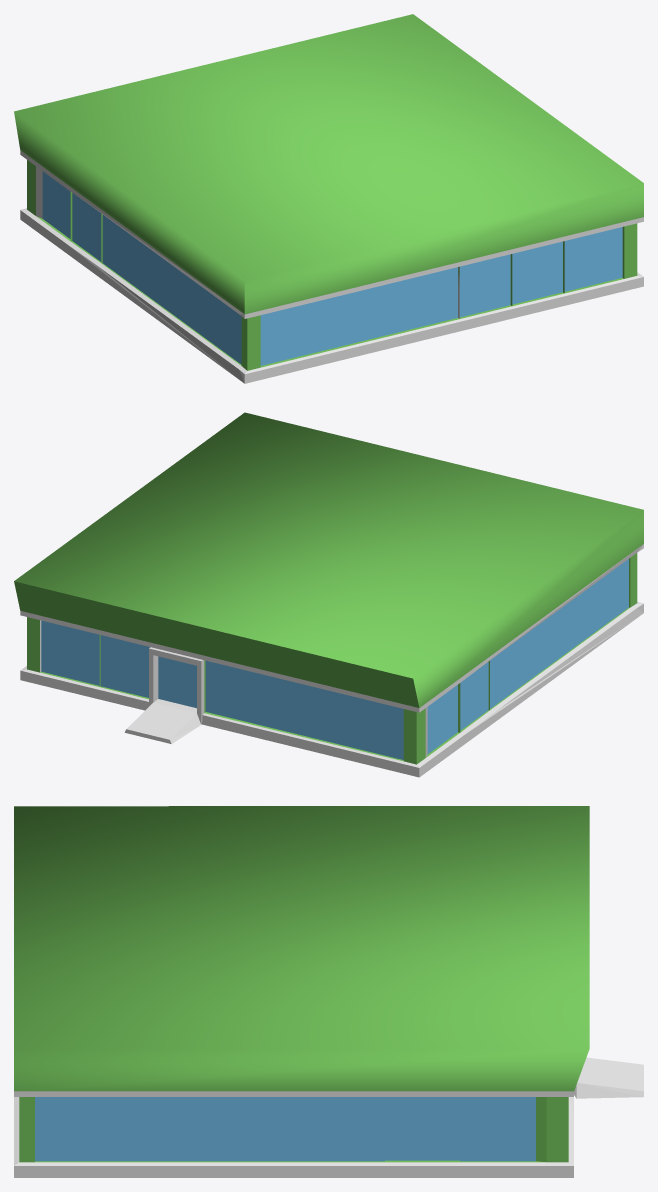
The model's file is Shop8x8x1Green.fbx.
3 views of the same model, one above another, from view 1: azimuth 30°, elevation 25°; view 2: azimuth 150°, elevation 25°; view 3: azimuth 270°, elevation 25° (orthographic). The views are drawn at different scales.
Parts seen in each view (by area): view 1: Shop.001; view 2: Shop.001; view 3: Shop.001.
Part boxes in pixels (<box>): Shop.001: <box>14,14,643,383</box>; Shop.001: <box>14,412,643,777</box>; Shop.001: <box>14,806,643,1177</box>.
Bounding box in the file's own units: 4.02 × 0.9949 × 4.4.
Materials: 1 (1 with a texture image).
